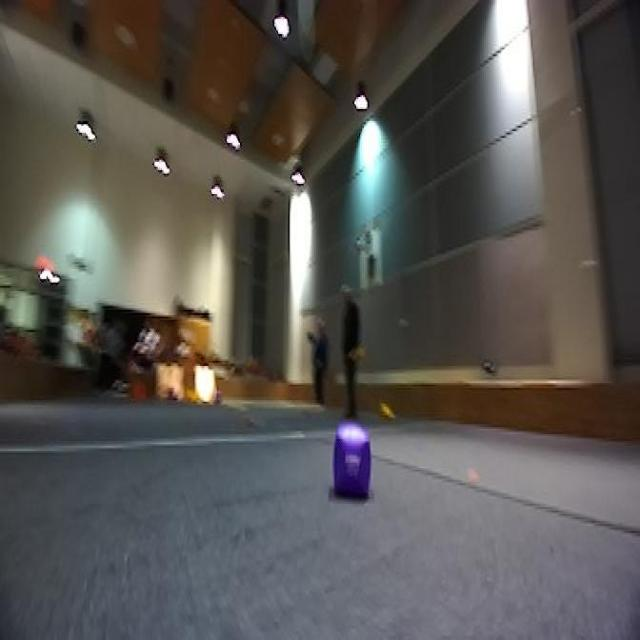frc_cone: (377, 395, 395, 420), (179, 386, 200, 404), (348, 344, 366, 364)
frc_cube: (330, 426, 372, 497), (163, 386, 177, 404), (213, 390, 226, 407)
